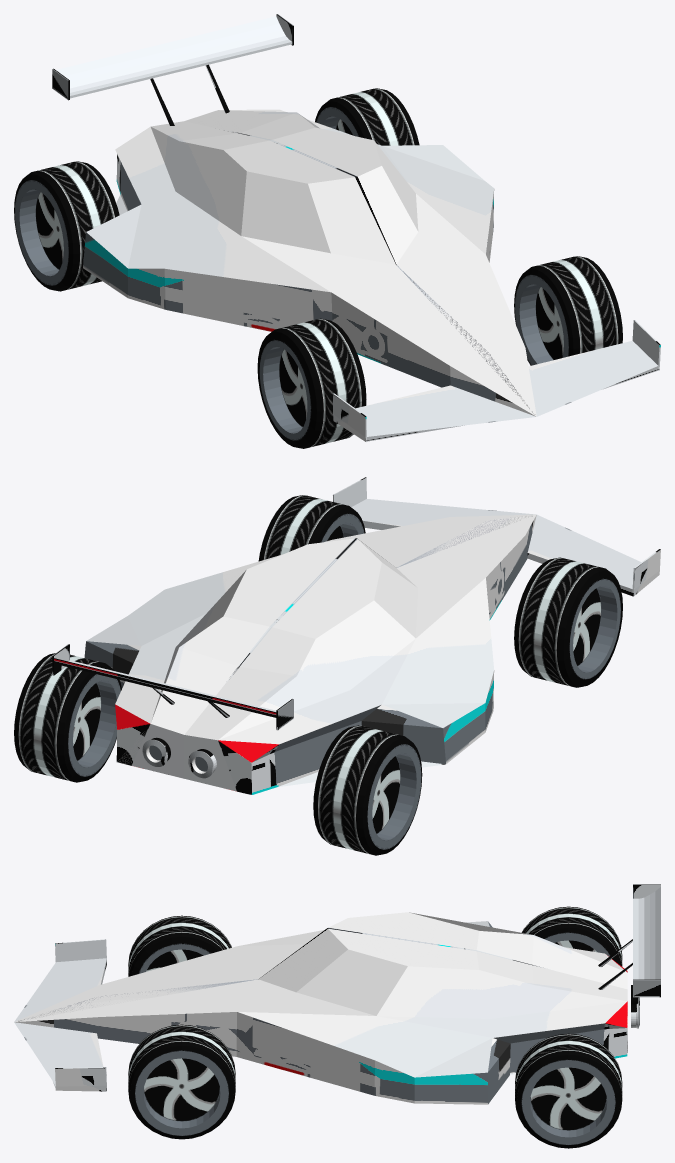
Rendered from basicCar.fbx.
3 renders of one model, top to bottom at view 1: azimuth 30°, elevation 25°; view 2: azimuth 150°, elevation 25°; view 3: azimuth 270°, elevation 25°, orthographic. The views are drawn at different scales.
Visible parts, largest first — view 1: DefaultCar, Tire, Tire.002, Tire.001, Tire.003; view 2: DefaultCar, Tire.002, Tire, Tire.003, Tire.001; view 3: DefaultCar, Tire.001, Tire.003, Tire, Tire.002.
Boxes of the visible parts, x1,y1,x2,y2 form: DefaultCar: (52,14,660,441); Tire: (257,318,366,448); Tire.002: (14,161,119,291); Tire.001: (514,256,622,365); Tire.003: (315,88,419,145); DefaultCar: (52,477,660,794); Tire.002: (313,725,422,855); Tire: (514,557,622,687); Tire.003: (14,653,121,782); Tire.001: (258,495,365,561); DefaultCar: (14,884,660,1104); Tire.001: (128,1024,235,1139); Tire.003: (515,1033,622,1148); Tire: (128,915,231,976); Tire.002: (522,906,622,966).
Bounding box in the file's own units: 170 × 76.09 × 301.
